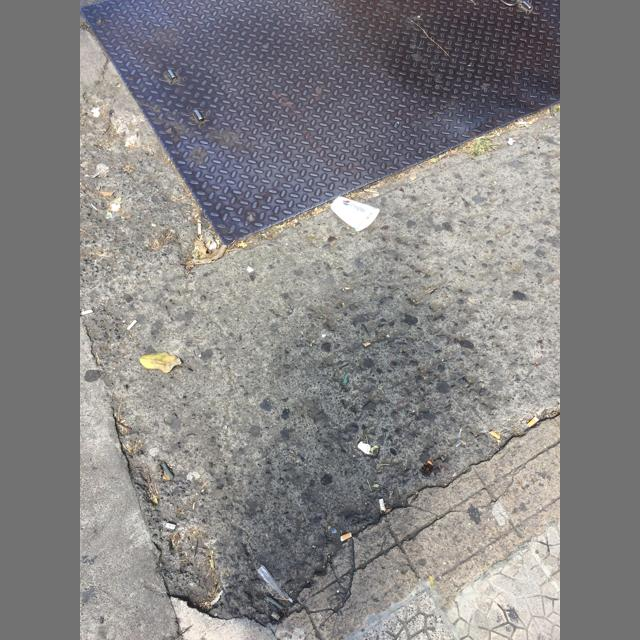litter: (331, 196, 379, 231), (258, 565, 293, 603), (264, 594, 285, 610), (358, 442, 370, 455), (526, 416, 539, 428), (126, 320, 137, 331), (489, 430, 500, 440), (340, 533, 352, 542), (378, 498, 385, 511), (82, 309, 92, 316), (198, 223, 201, 235)
